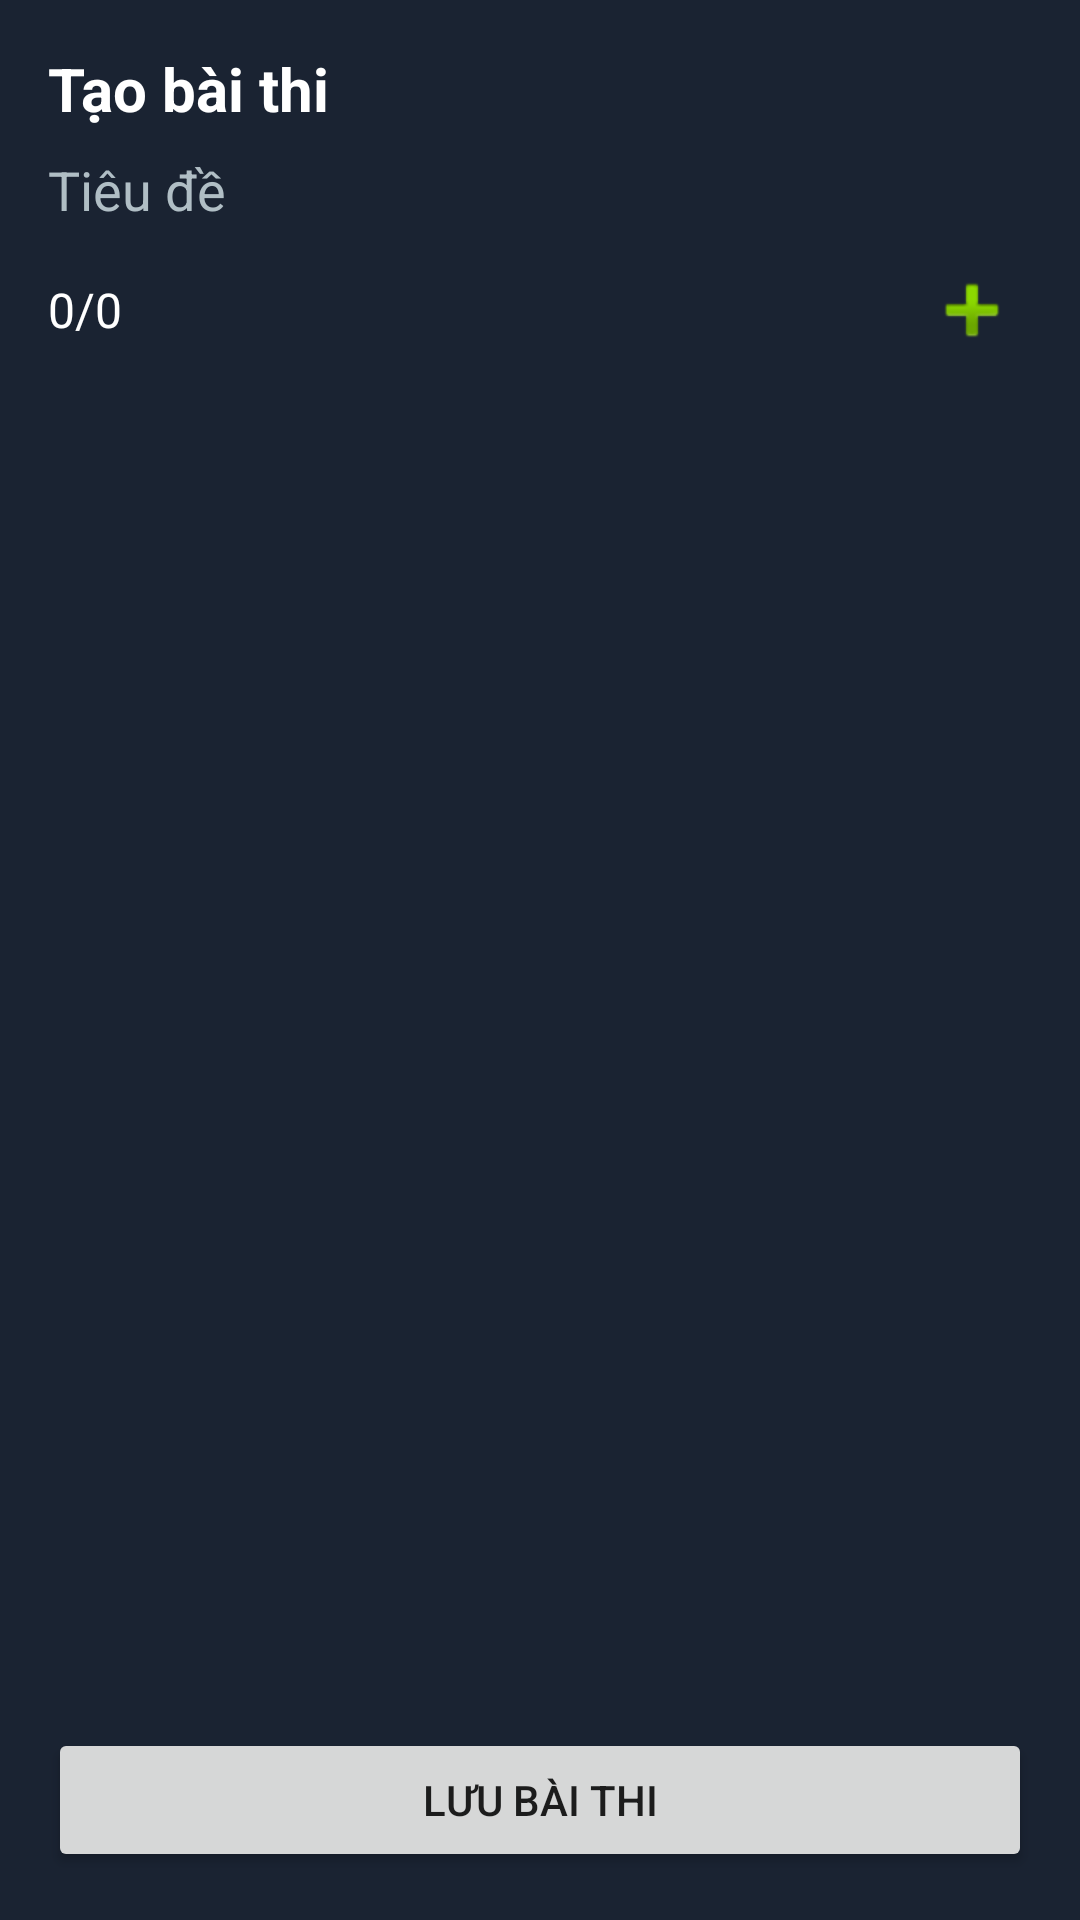

Where icons sit on this 1080w x 1920h app screen, as (x1, y1, x2, y2):
Thêm câu hỏi: (945, 283, 999, 337)
